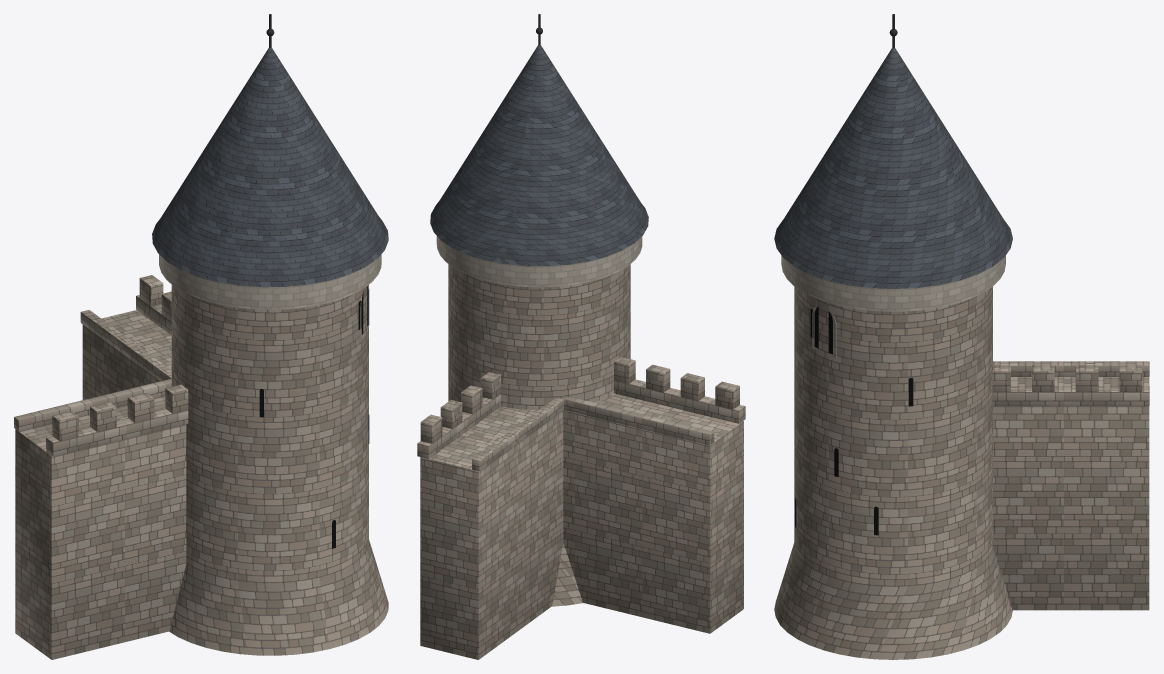
File: round-corner-tower.glb
3 renders of one model, left to right at view 1: azimuth 30°, elevation 25°; view 2: azimuth 150°, elevation 25°; view 3: azimuth 270°, elevation 25°, orthographic. The views are drawn at different scales.
Parts seen in each view (by area): view 1: Round_Corner_Tower; view 2: Round_Corner_Tower; view 3: Round_Corner_Tower.
Part boxes in pixels (x1,y1,x2,y2): Round_Corner_Tower: (14, 14, 388, 659); Round_Corner_Tower: (417, 14, 745, 659); Round_Corner_Tower: (774, 14, 1149, 659).
Size of the model in its own units: 13.21 by 23.1 by 13.21.
Materials: 5 (3 with a texture image).
